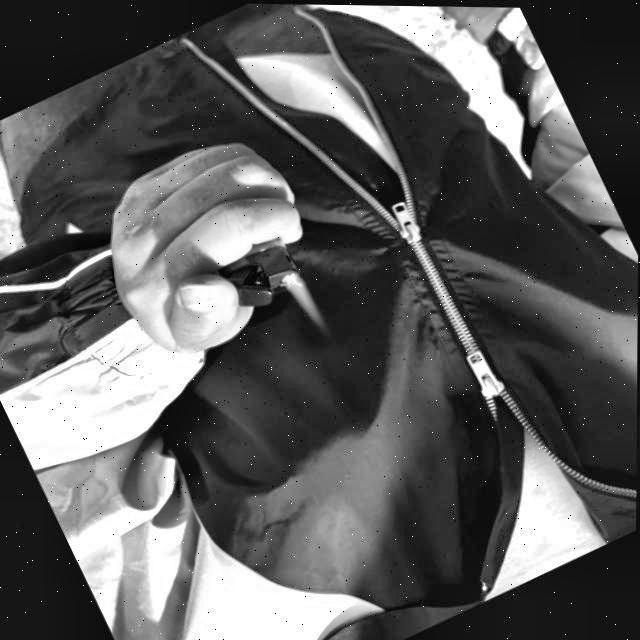Fire: (281, 272, 324, 328)
